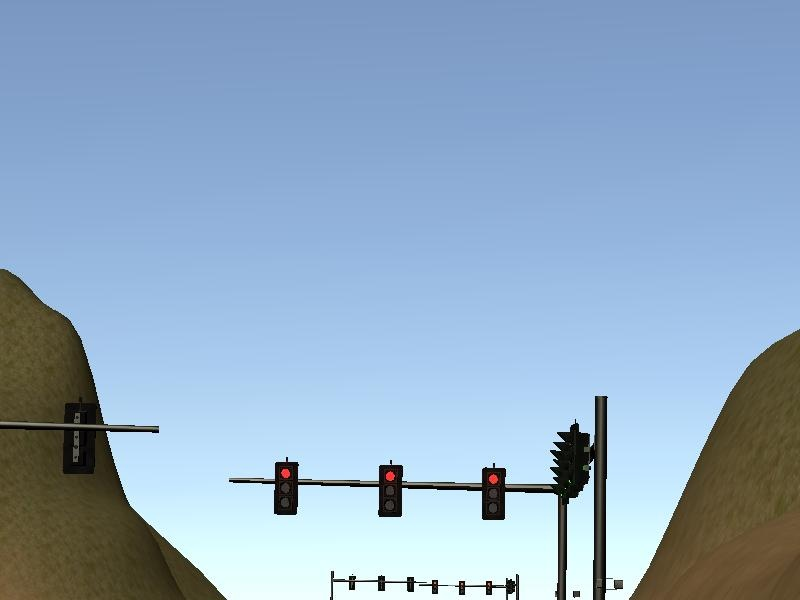red: (376, 463, 405, 521), (271, 459, 298, 516), (482, 467, 507, 519)
